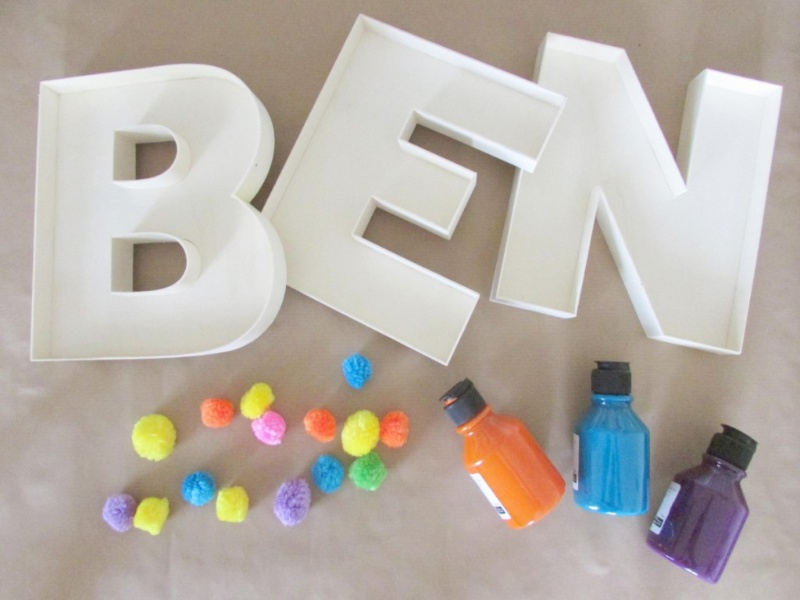letter: (272, 8, 559, 380), (517, 11, 778, 361), (17, 59, 285, 366)
